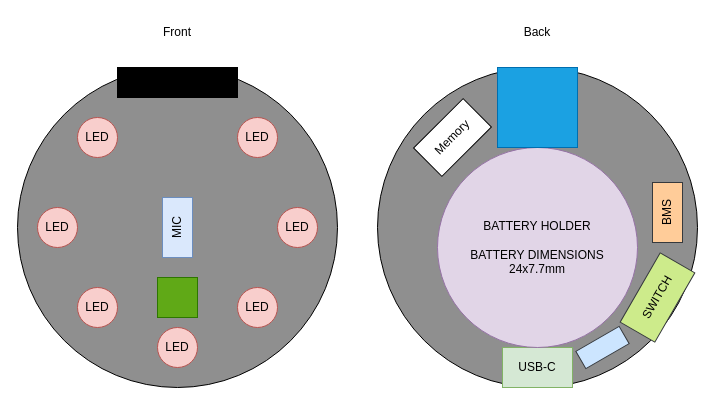
This 715x405 diagram has some shape labels left out. Each missing label, with the centre of its shape:
KEEPOUT: the point at 177,82
LED IC: the point at 177,297
Polyfuse: the point at 602,347
uC: the point at 537,107
